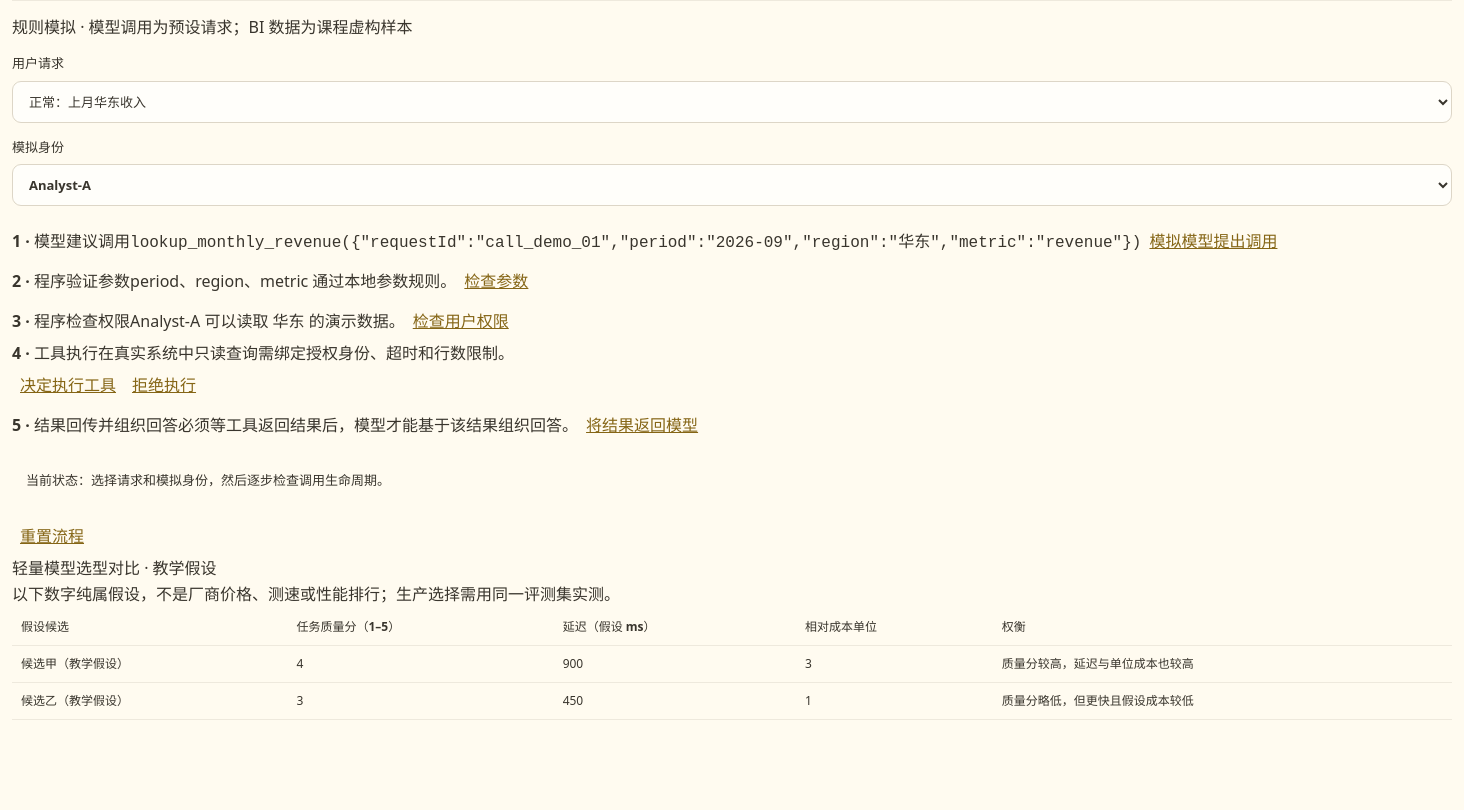
Test: U05–U08 local experiments › requires explicit execution and returns only the simulated tool result
Click the button "模拟模型提出调用": {"x": 1213, "y": 241} [1141,221,1285,261]
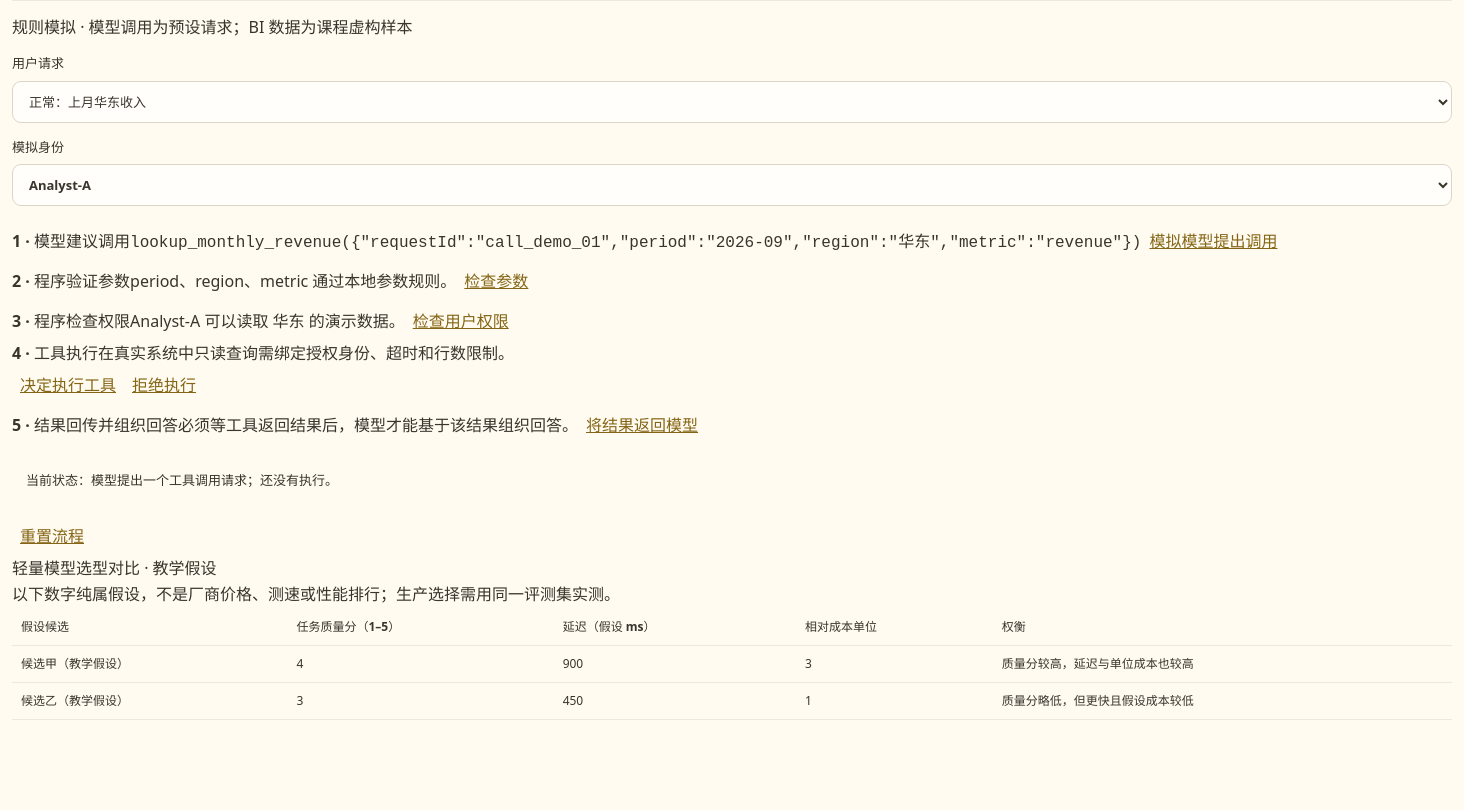
Click the button "检查参数": {"x": 496, "y": 281} [456,261,536,301]
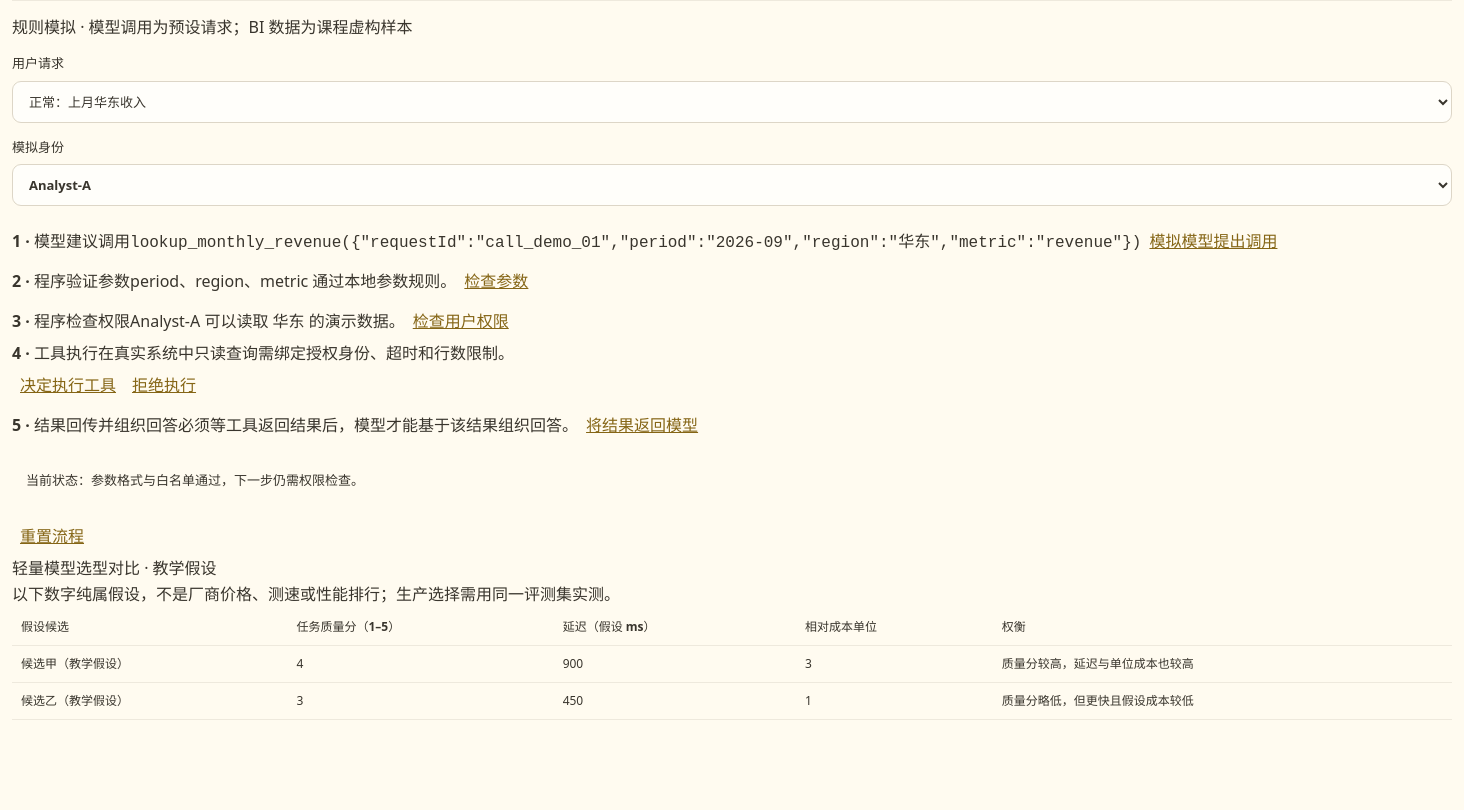
Click the button "检查用户权限": {"x": 461, "y": 321} [405,301,517,341]
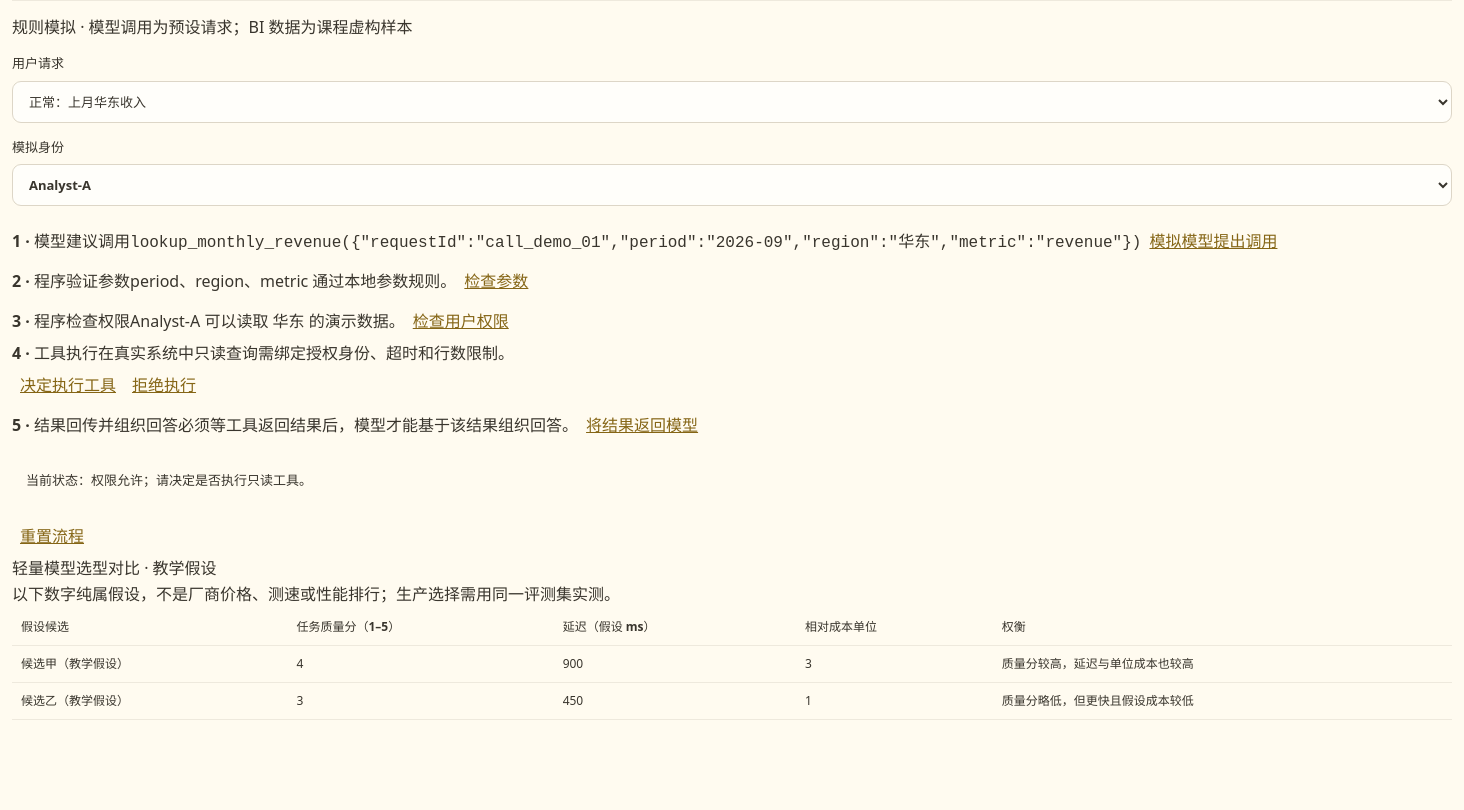
Click the button "决定执行工具": {"x": 68, "y": 385} [12,365,124,405]
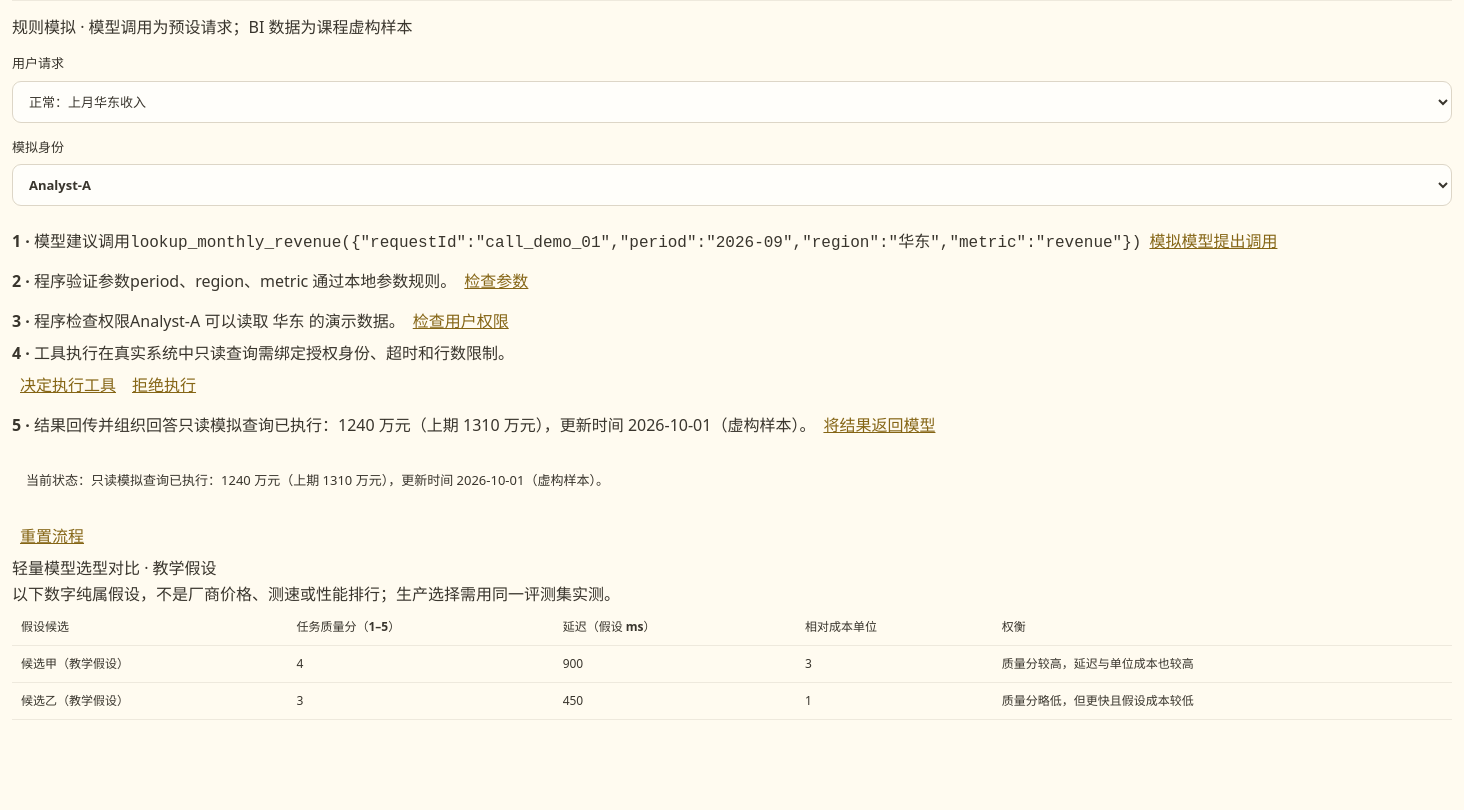
expect the text "只读模拟查询已执行：1240 万元（上期 1310 万元），更新时间 2026-10-01（虚构样本）。" is shown: met, box [178,414,815,436]
Click the button "将结果返回模型": {"x": 879, "y": 425} [815,405,943,445]
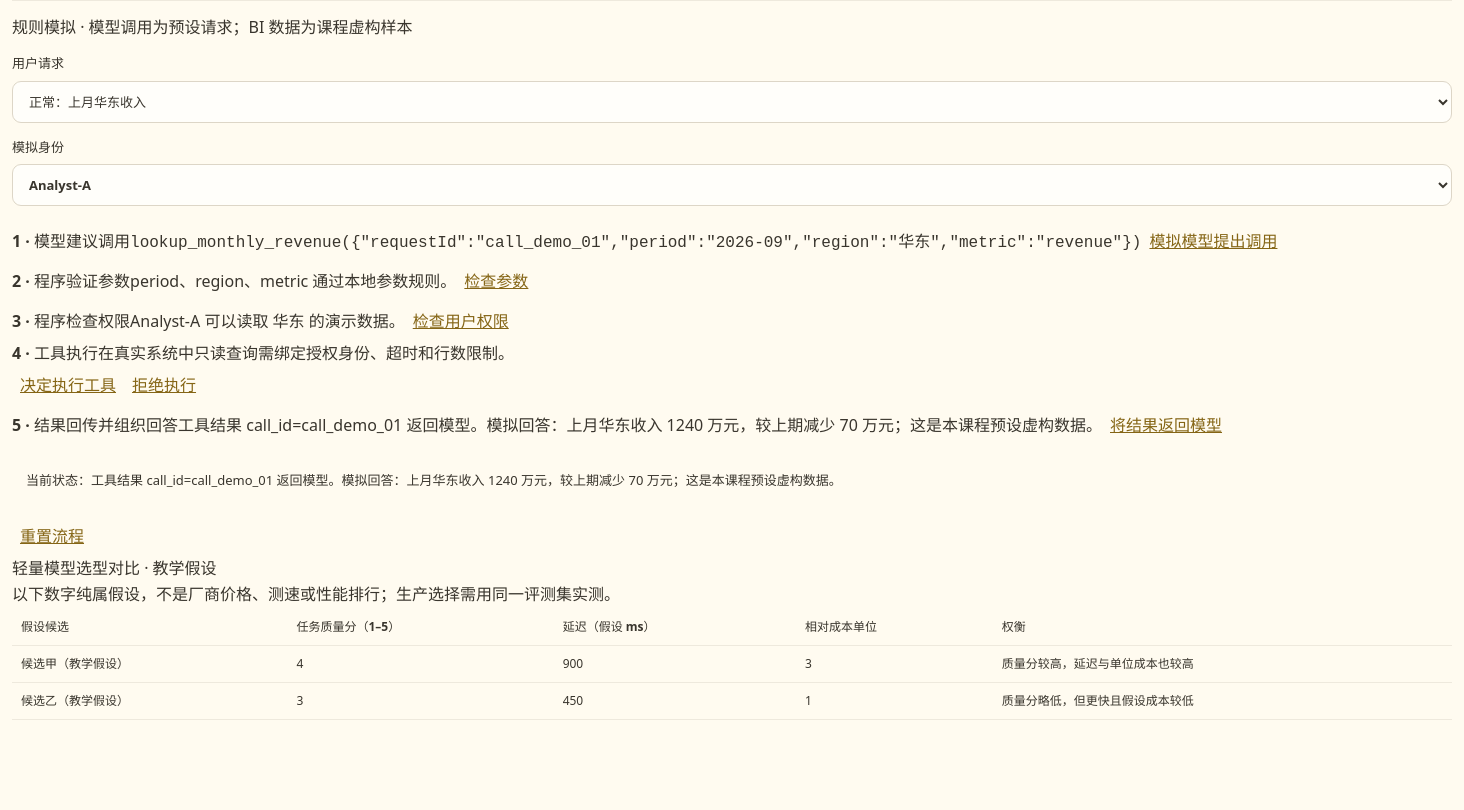
expect the text "工具结果 call_id=call_demo_01 返回模型" is shown: met, box [178,414,1102,436]
